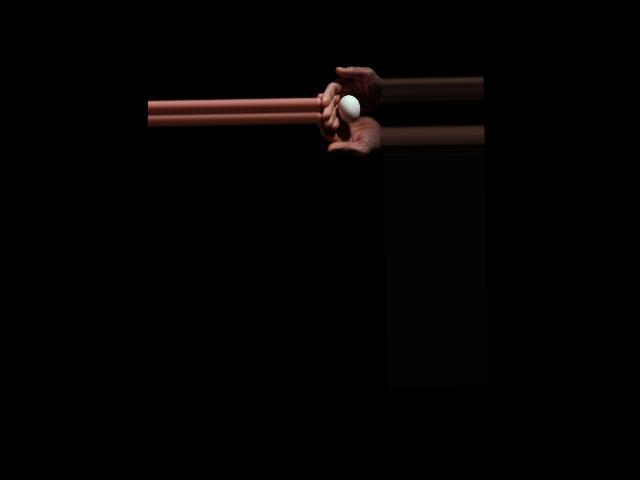egg: (337, 94, 360, 123)
